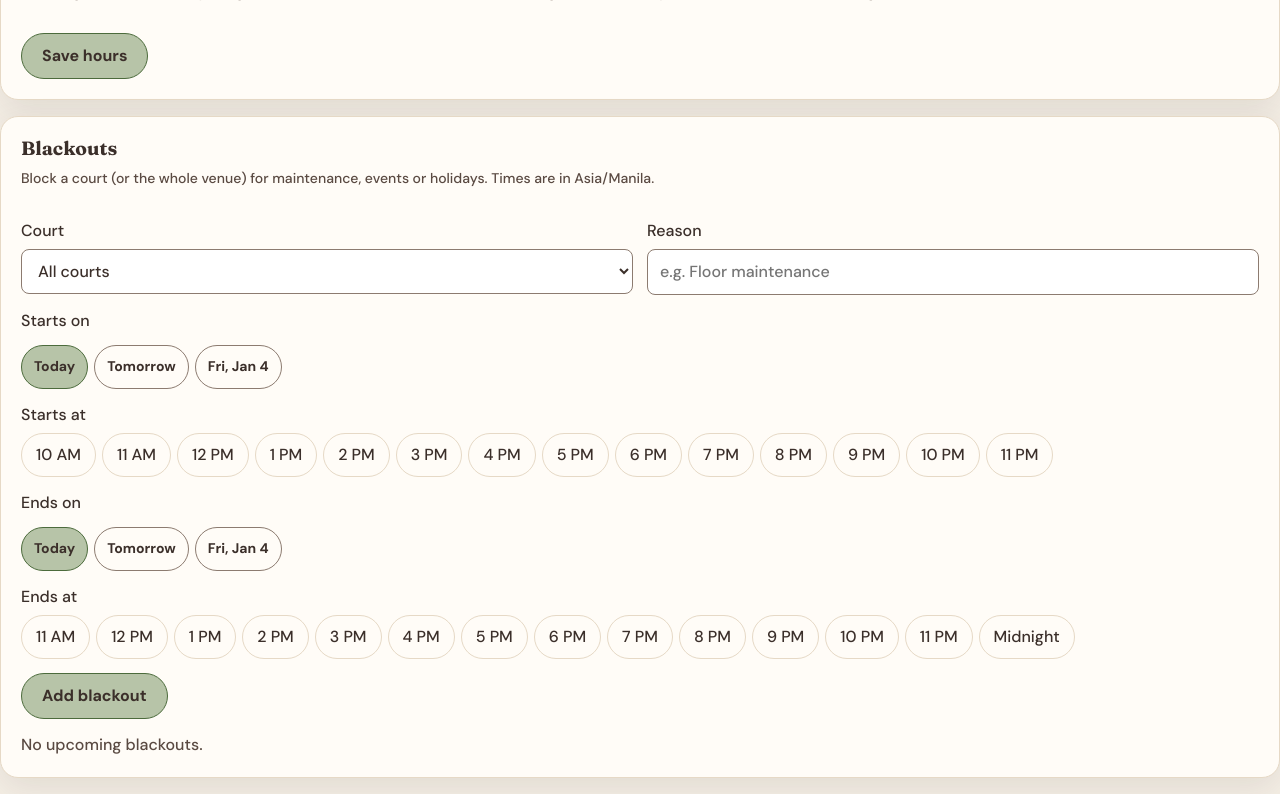
Test: SchedulePage blackouts › offers the hour in progress but not ended ones, ends only after the start, and asks for both
(page scrolled)
Check: the radio button labelled "10 AM" is shown, box [21,433,96,477]
Click the button "Add blackout" at (94, 696), box [21,673,168,719]
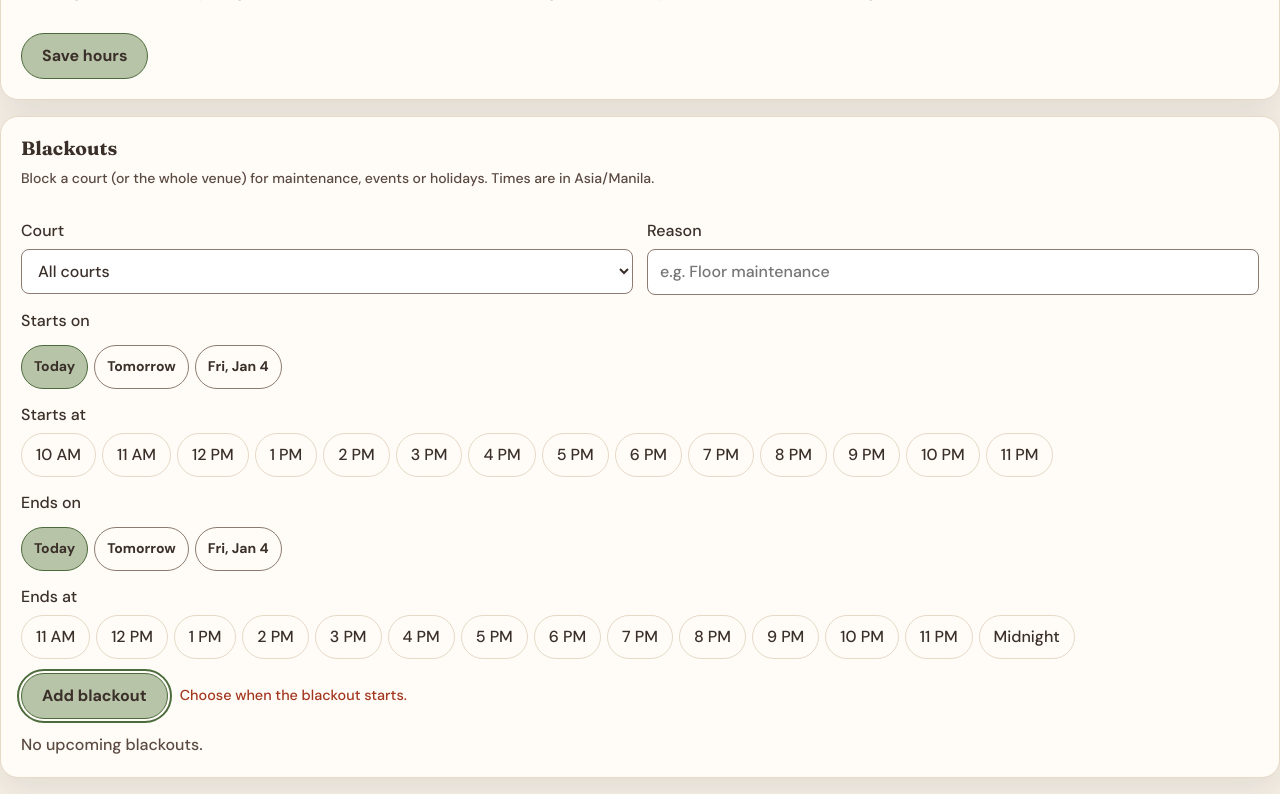
Check: the message reads "Choose when the blackout starts.", box [180,686,407,704]
Click the radio button labelled "9 PM" in the row of "10 AM" at (867, 455), box [833,433,900,477]
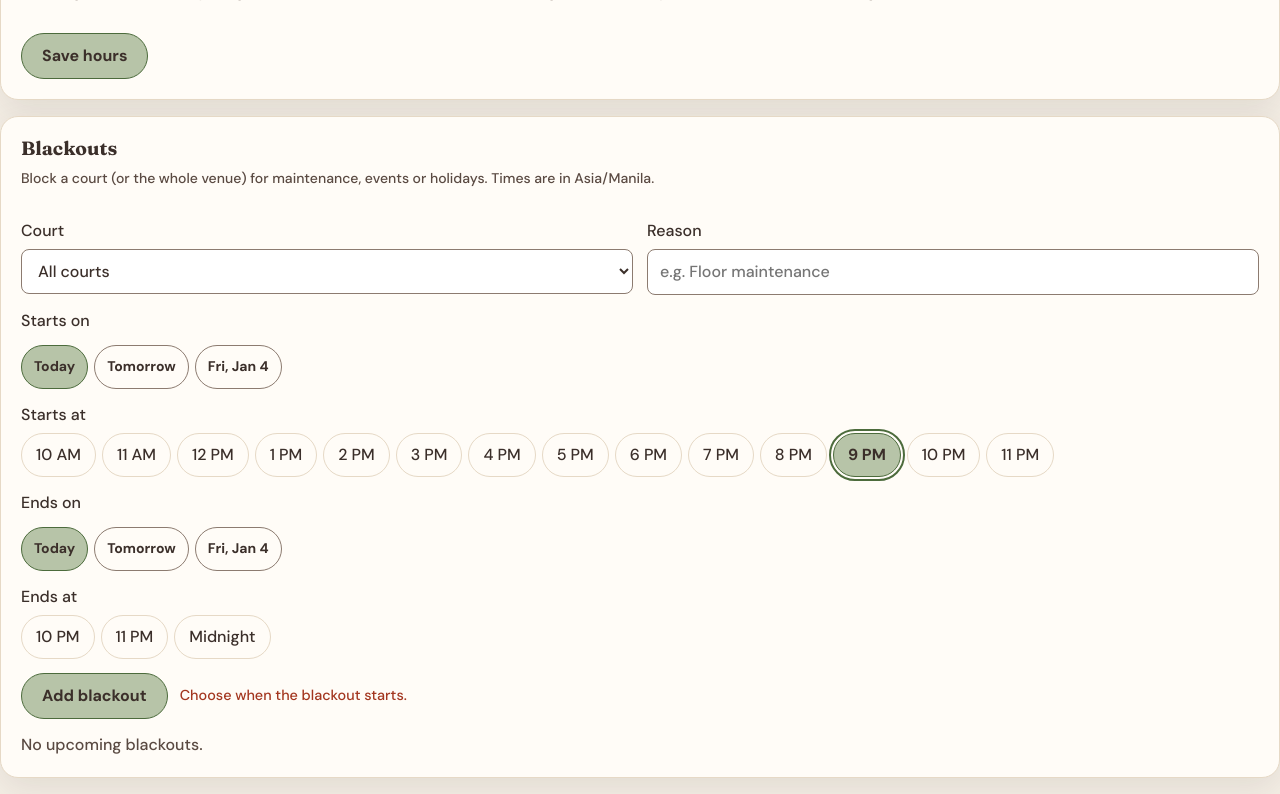
Click the button "Add blackout" at (94, 696), box [21,673,168,719]
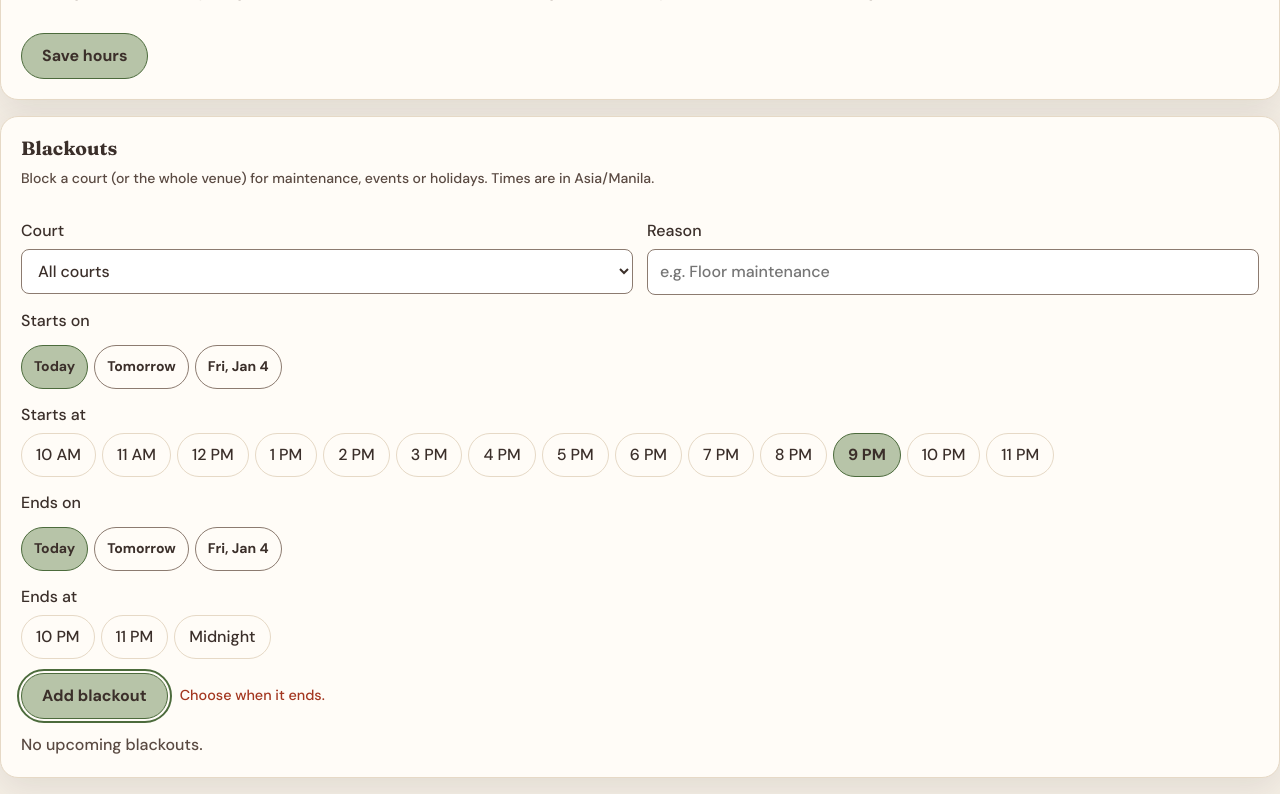
Check: the message reads "Choose when it ends.", box [180,686,325,704]
